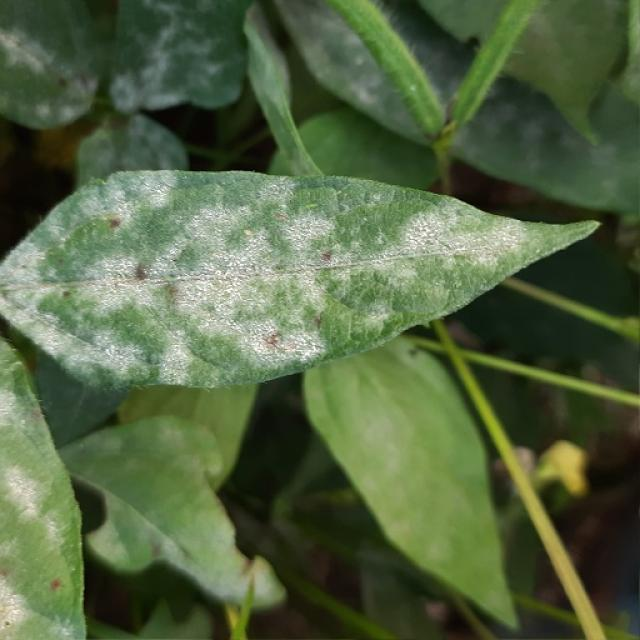Blackgram: (0, 172, 598, 442)
Powdery_Mildew: (51, 204, 362, 342), (379, 209, 546, 269), (86, 242, 189, 305), (128, 258, 325, 290), (0, 552, 72, 626), (78, 264, 150, 318), (263, 331, 296, 352), (106, 274, 148, 286), (423, 125, 444, 142), (164, 282, 181, 301), (133, 265, 148, 280), (150, 540, 162, 557), (108, 217, 121, 229), (50, 578, 62, 591), (321, 250, 333, 262), (31, 409, 43, 421), (274, 213, 288, 221), (407, 347, 418, 357), (58, 77, 68, 87), (313, 316, 322, 327), (1, 568, 10, 579), (62, 289, 72, 298), (273, 265, 285, 272), (57, 257, 65, 265)
